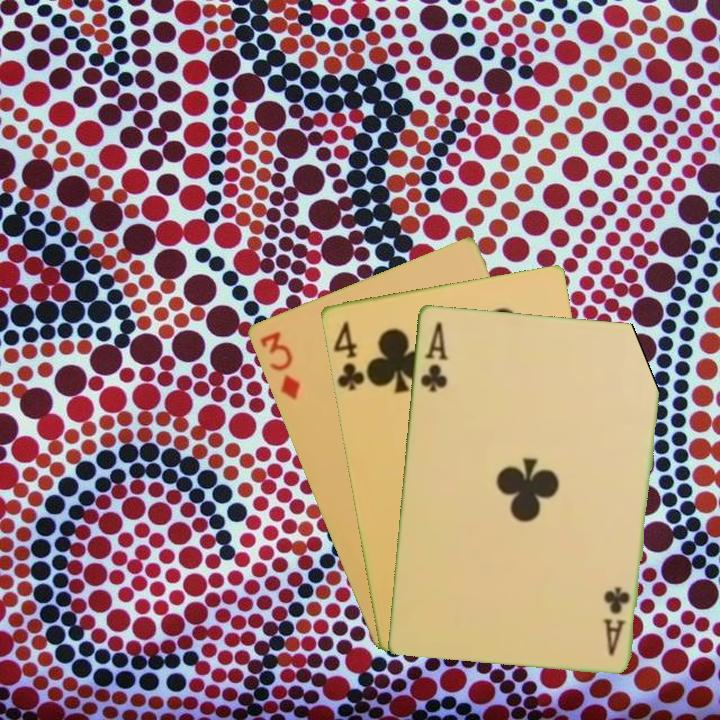3d: (256, 327, 303, 403)
4c: (329, 317, 370, 393)
Ac: (416, 317, 450, 394), (599, 582, 633, 658)
